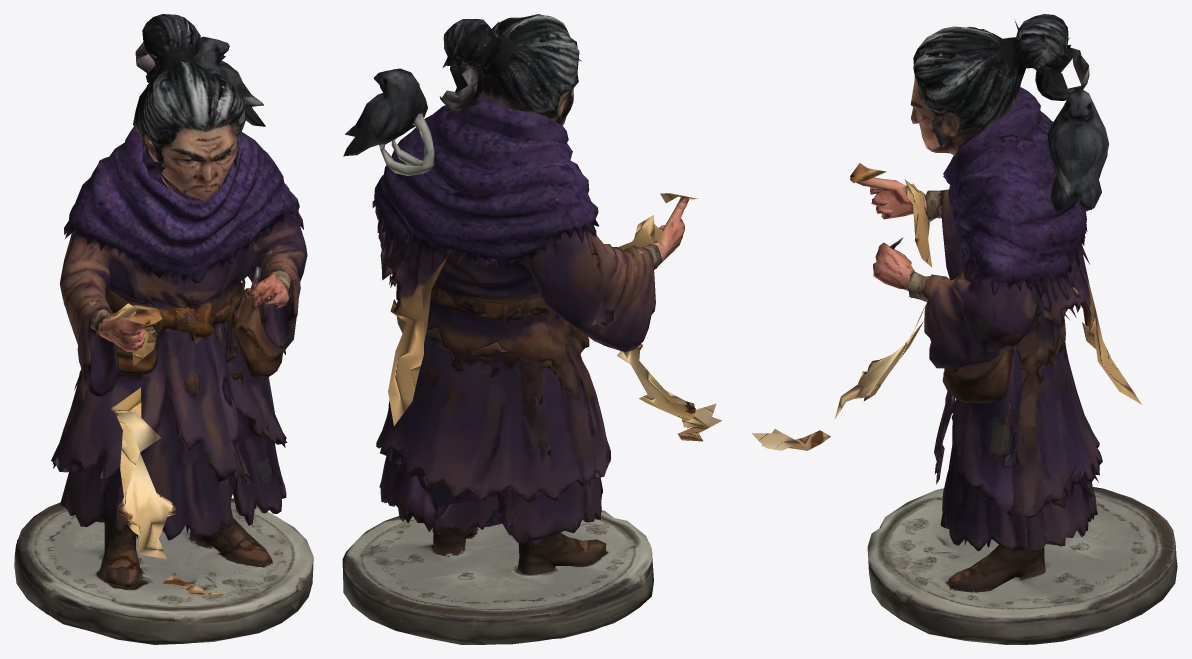
File: hero-morwen.glb
3 renders of one model, left to right at view 1: azimuth 30°, elevation 25°; view 2: azimuth 150°, elevation 25°; view 3: azimuth 270°, elevation 25°, orthographic. The views are drawn at different scales.
Visible parts, largest first — view 1: geometry_0; view 2: geometry_0; view 3: geometry_0.
Boxes of the visible parts, x1,y1,x2,y2 form: geometry_0: (14,14,313,644); geometry_0: (342,14,721,644); geometry_0: (752,14,1177,644).
Size of the model in its own units: 0.4468 by 0.9184 by 0.6168.
Materials: 1 (1 with a texture image).
